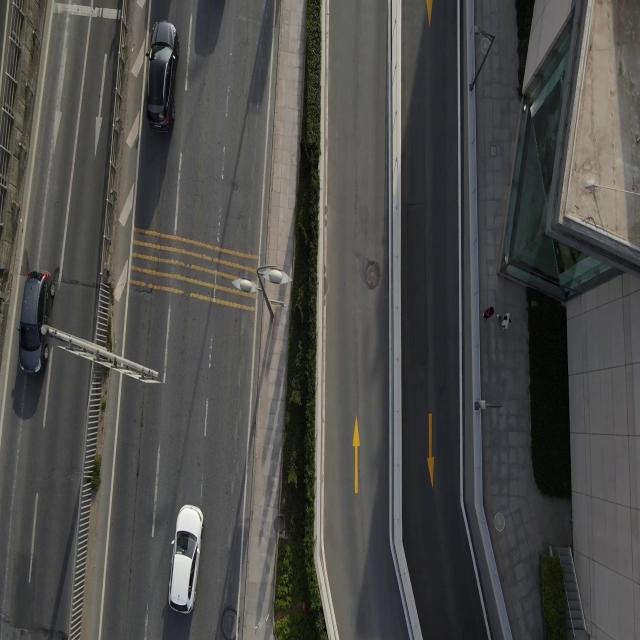p3rson: (497, 312, 510, 332), (483, 306, 494, 321)
